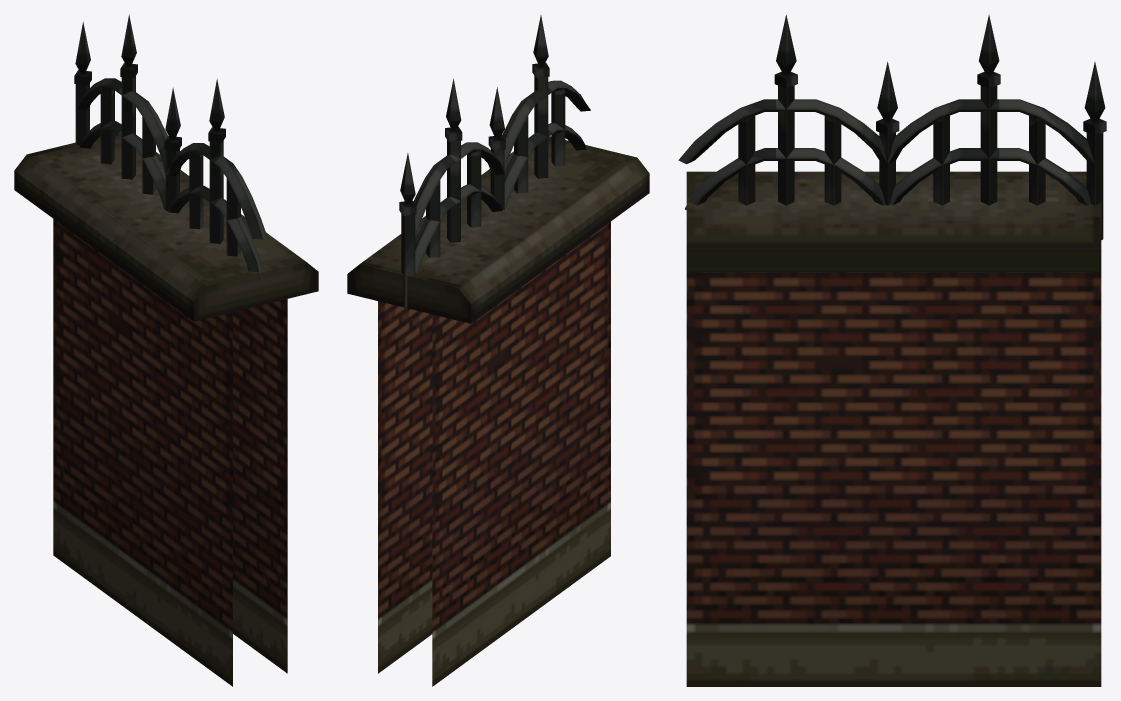
Rendered from EnvBdgMD_Forest_MothersGarden_A_Wall_A.FBX.
The picture shows the model from 3 angles, left to right: view 1: azimuth 30°, elevation 25°; view 2: azimuth 150°, elevation 25°; view 3: azimuth 270°, elevation 25°; orthographic projection. The views are drawn at different scales.
Parts seen in each view (by area): view 1: EnvBdgMD_Forest_MothersGarden_A_Wall_A; view 2: EnvBdgMD_Forest_MothersGarden_A_Wall_A; view 3: EnvBdgMD_Forest_MothersGarden_A_Wall_A.
Boxes of the visible parts, x1,y1,x2,y2 form: EnvBdgMD_Forest_MothersGarden_A_Wall_A: (14, 14, 318, 686); EnvBdgMD_Forest_MothersGarden_A_Wall_A: (347, 15, 649, 686); EnvBdgMD_Forest_MothersGarden_A_Wall_A: (678, 14, 1106, 686).
Size of the model in its own units: 80 by 350 by 207.
Materials: 1 (1 with a texture image).
